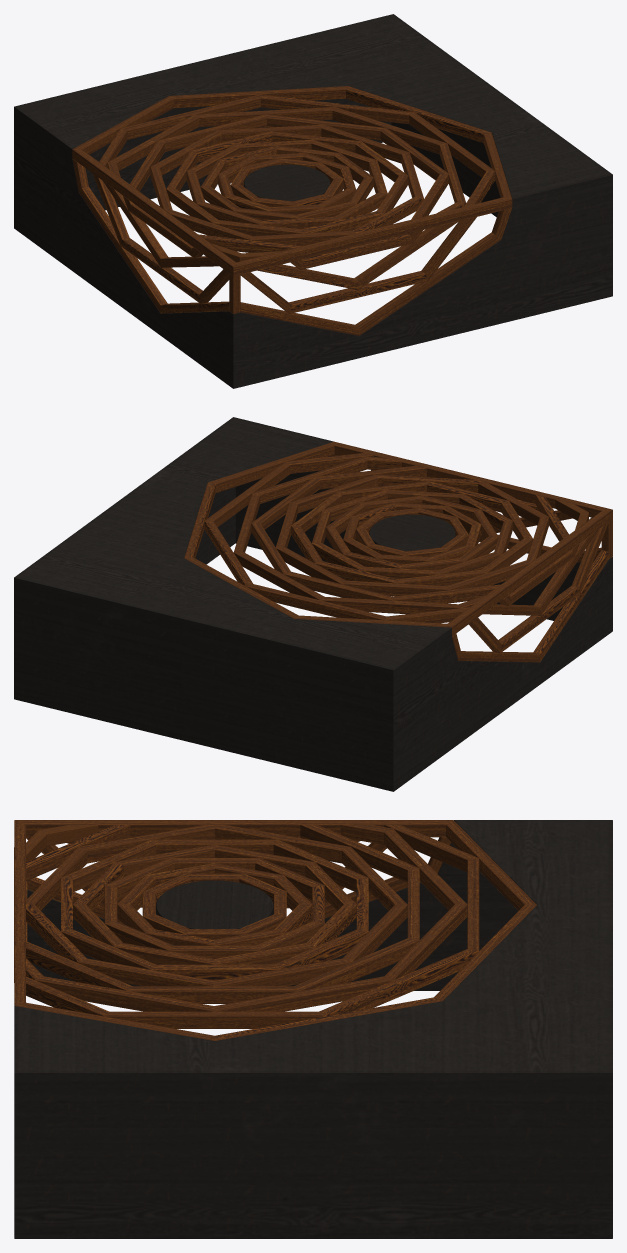
The model's file is modern_coffee_table_02_1k.fbx.
3 views of the same model, one above another, from view 1: azimuth 30°, elevation 25°; view 2: azimuth 150°, elevation 25°; view 3: azimuth 270°, elevation 25° (orthographic). The views are drawn at different scales.
Parts seen in each view (by area): view 1: modern_coffee_table_02; view 2: modern_coffee_table_02; view 3: modern_coffee_table_02.
Boxes of the visible parts, box(x1,y1,x2,y2) form: modern_coffee_table_02: box(14, 14, 612, 388); modern_coffee_table_02: box(14, 417, 612, 791); modern_coffee_table_02: box(14, 820, 612, 1238).
Size of the model in its own units: 120 by 36.92 by 120.
Materials: 2 (2 with a texture image).
